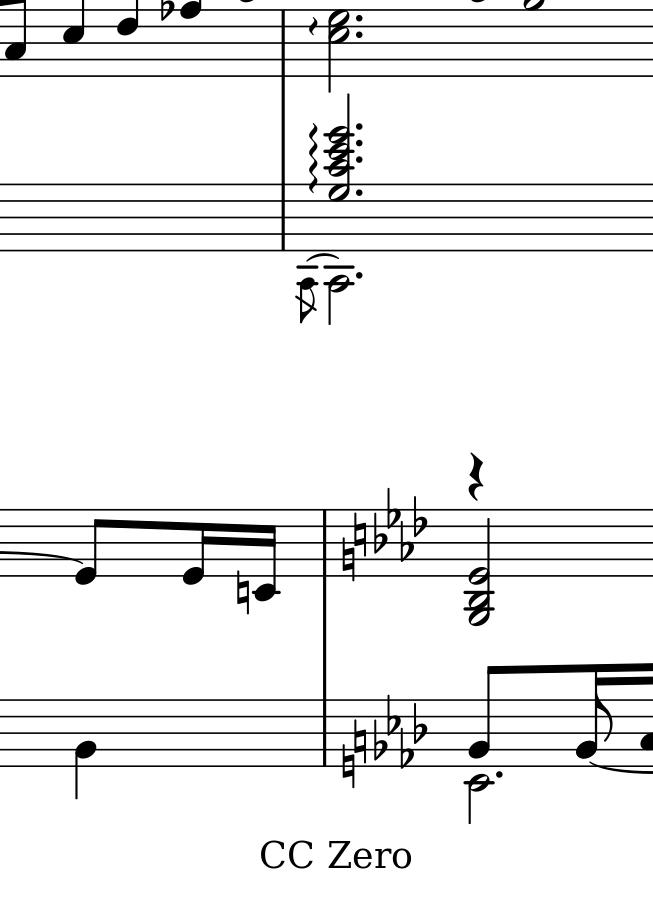16_-2: (252, 507, 278, 603)
16_0: (180, 507, 212, 587)
2_4th: (327, 88, 351, 254)
4_2: (71, 696, 97, 800)
4_th: (465, 518, 496, 626)
8_0: (73, 507, 106, 587)
8_2: (466, 664, 500, 766)
A_F: (372, 485, 427, 564), (372, 692, 430, 766)
Acciaccature: (295, 182, 319, 325)
Arpeggio: (306, 120, 319, 194)
Natural: (234, 569, 251, 616), (340, 742, 355, 789), (353, 721, 368, 768), (340, 538, 355, 585), (352, 513, 366, 555)
Rests4: (466, 451, 486, 503)
Single_barline: (316, 510, 333, 576), (316, 699, 333, 765), (275, 10, 290, 75), (275, 184, 289, 250)
Slur: (305, 251, 341, 263)
dot: (351, 122, 366, 135), (493, 767, 506, 781), (353, 14, 365, 25), (353, 29, 364, 40), (353, 186, 364, 197), (354, 154, 364, 165), (354, 270, 364, 281), (354, 139, 364, 148)
